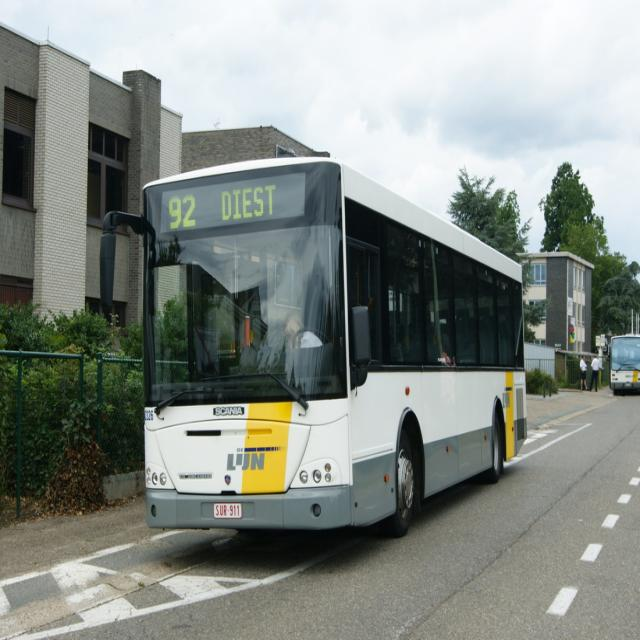bus-number: (164, 193, 200, 232)
